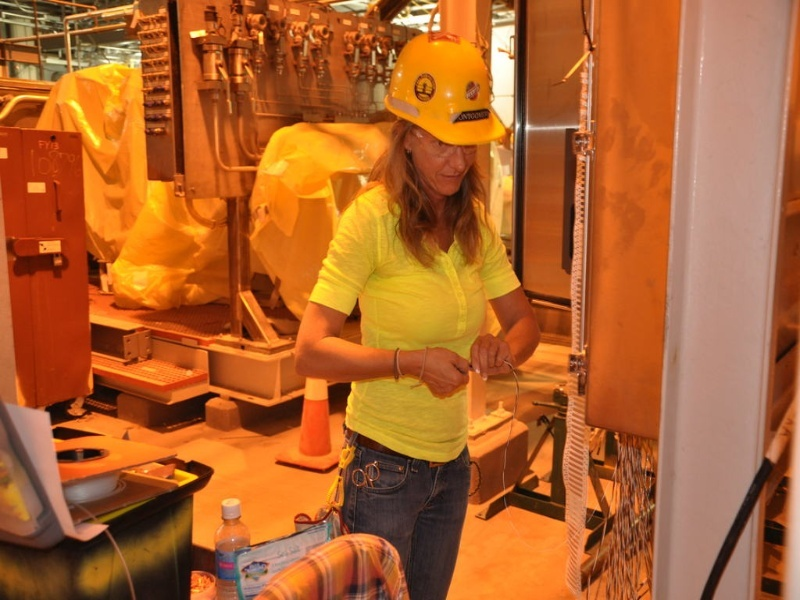Baret: (383, 31, 510, 148)
